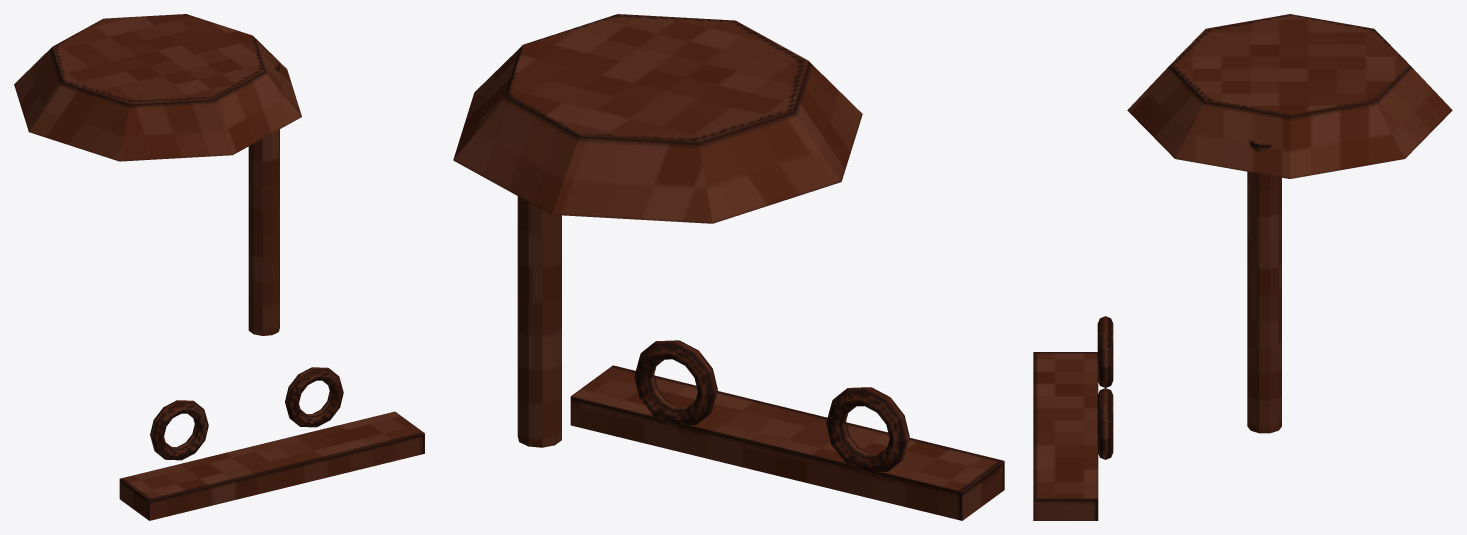
Rendered from channels_pump_house_fixtures.obj.
3 views of the same model, side by side, from view 1: azimuth 30°, elevation 25°; view 2: azimuth 150°, elevation 25°; view 3: azimuth 270°, elevation 25° (orthographic). The views are drawn at different scales.
Bounding box in the file's own units: 4.85 × 5.75 × 5.8.
1 material, 1 textured.
